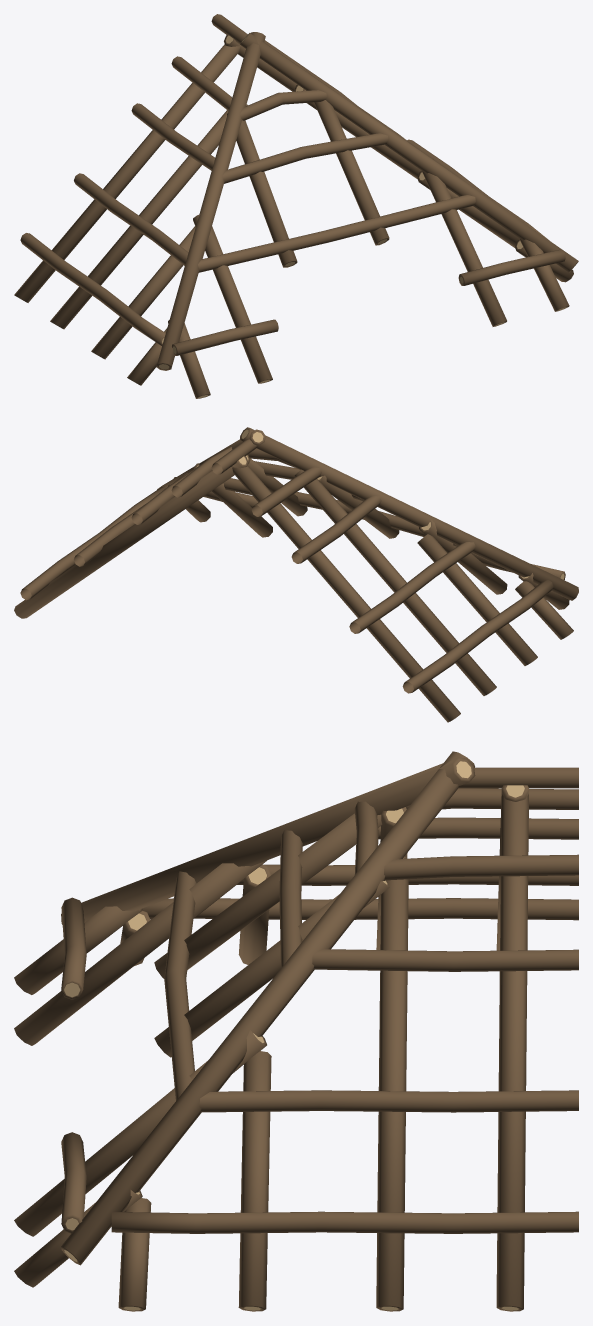
The model's file is rpgpp_ag_roof_support_01_9x4x3_roof_02_end_03.fbx.
3 renders of one model, top to bottom at view 1: azimuth 30°, elevation 25°; view 2: azimuth 150°, elevation 25°; view 3: azimuth 270°, elevation 25°, orthographic. The views are drawn at different scales.
Parts seen in each view (by area): view 1: rpgpp_ag_roof_support_01_9x4x3_roof_02_end_03; view 2: rpgpp_ag_roof_support_01_9x4x3_roof_02_end_03; view 3: rpgpp_ag_roof_support_01_9x4x3_roof_02_end_03.
Part boxes in pixels (x1,y1,x2,y2): rpgpp_ag_roof_support_01_9x4x3_roof_02_end_03: (14, 14, 578, 398); rpgpp_ag_roof_support_01_9x4x3_roof_02_end_03: (14, 427, 578, 722); rpgpp_ag_roof_support_01_9x4x3_roof_02_end_03: (14, 751, 578, 1311).
Size of the model in its own units: 10 by 4.94 by 6.58.
